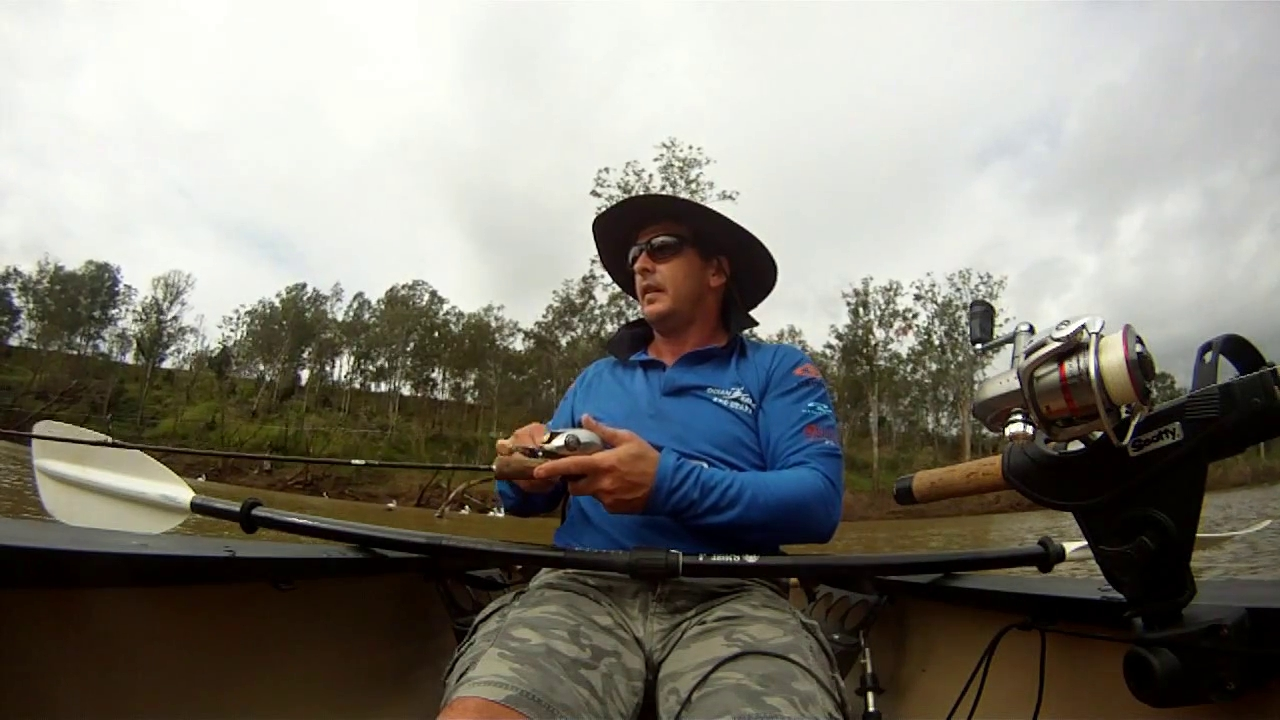person: (433, 193, 856, 719)
